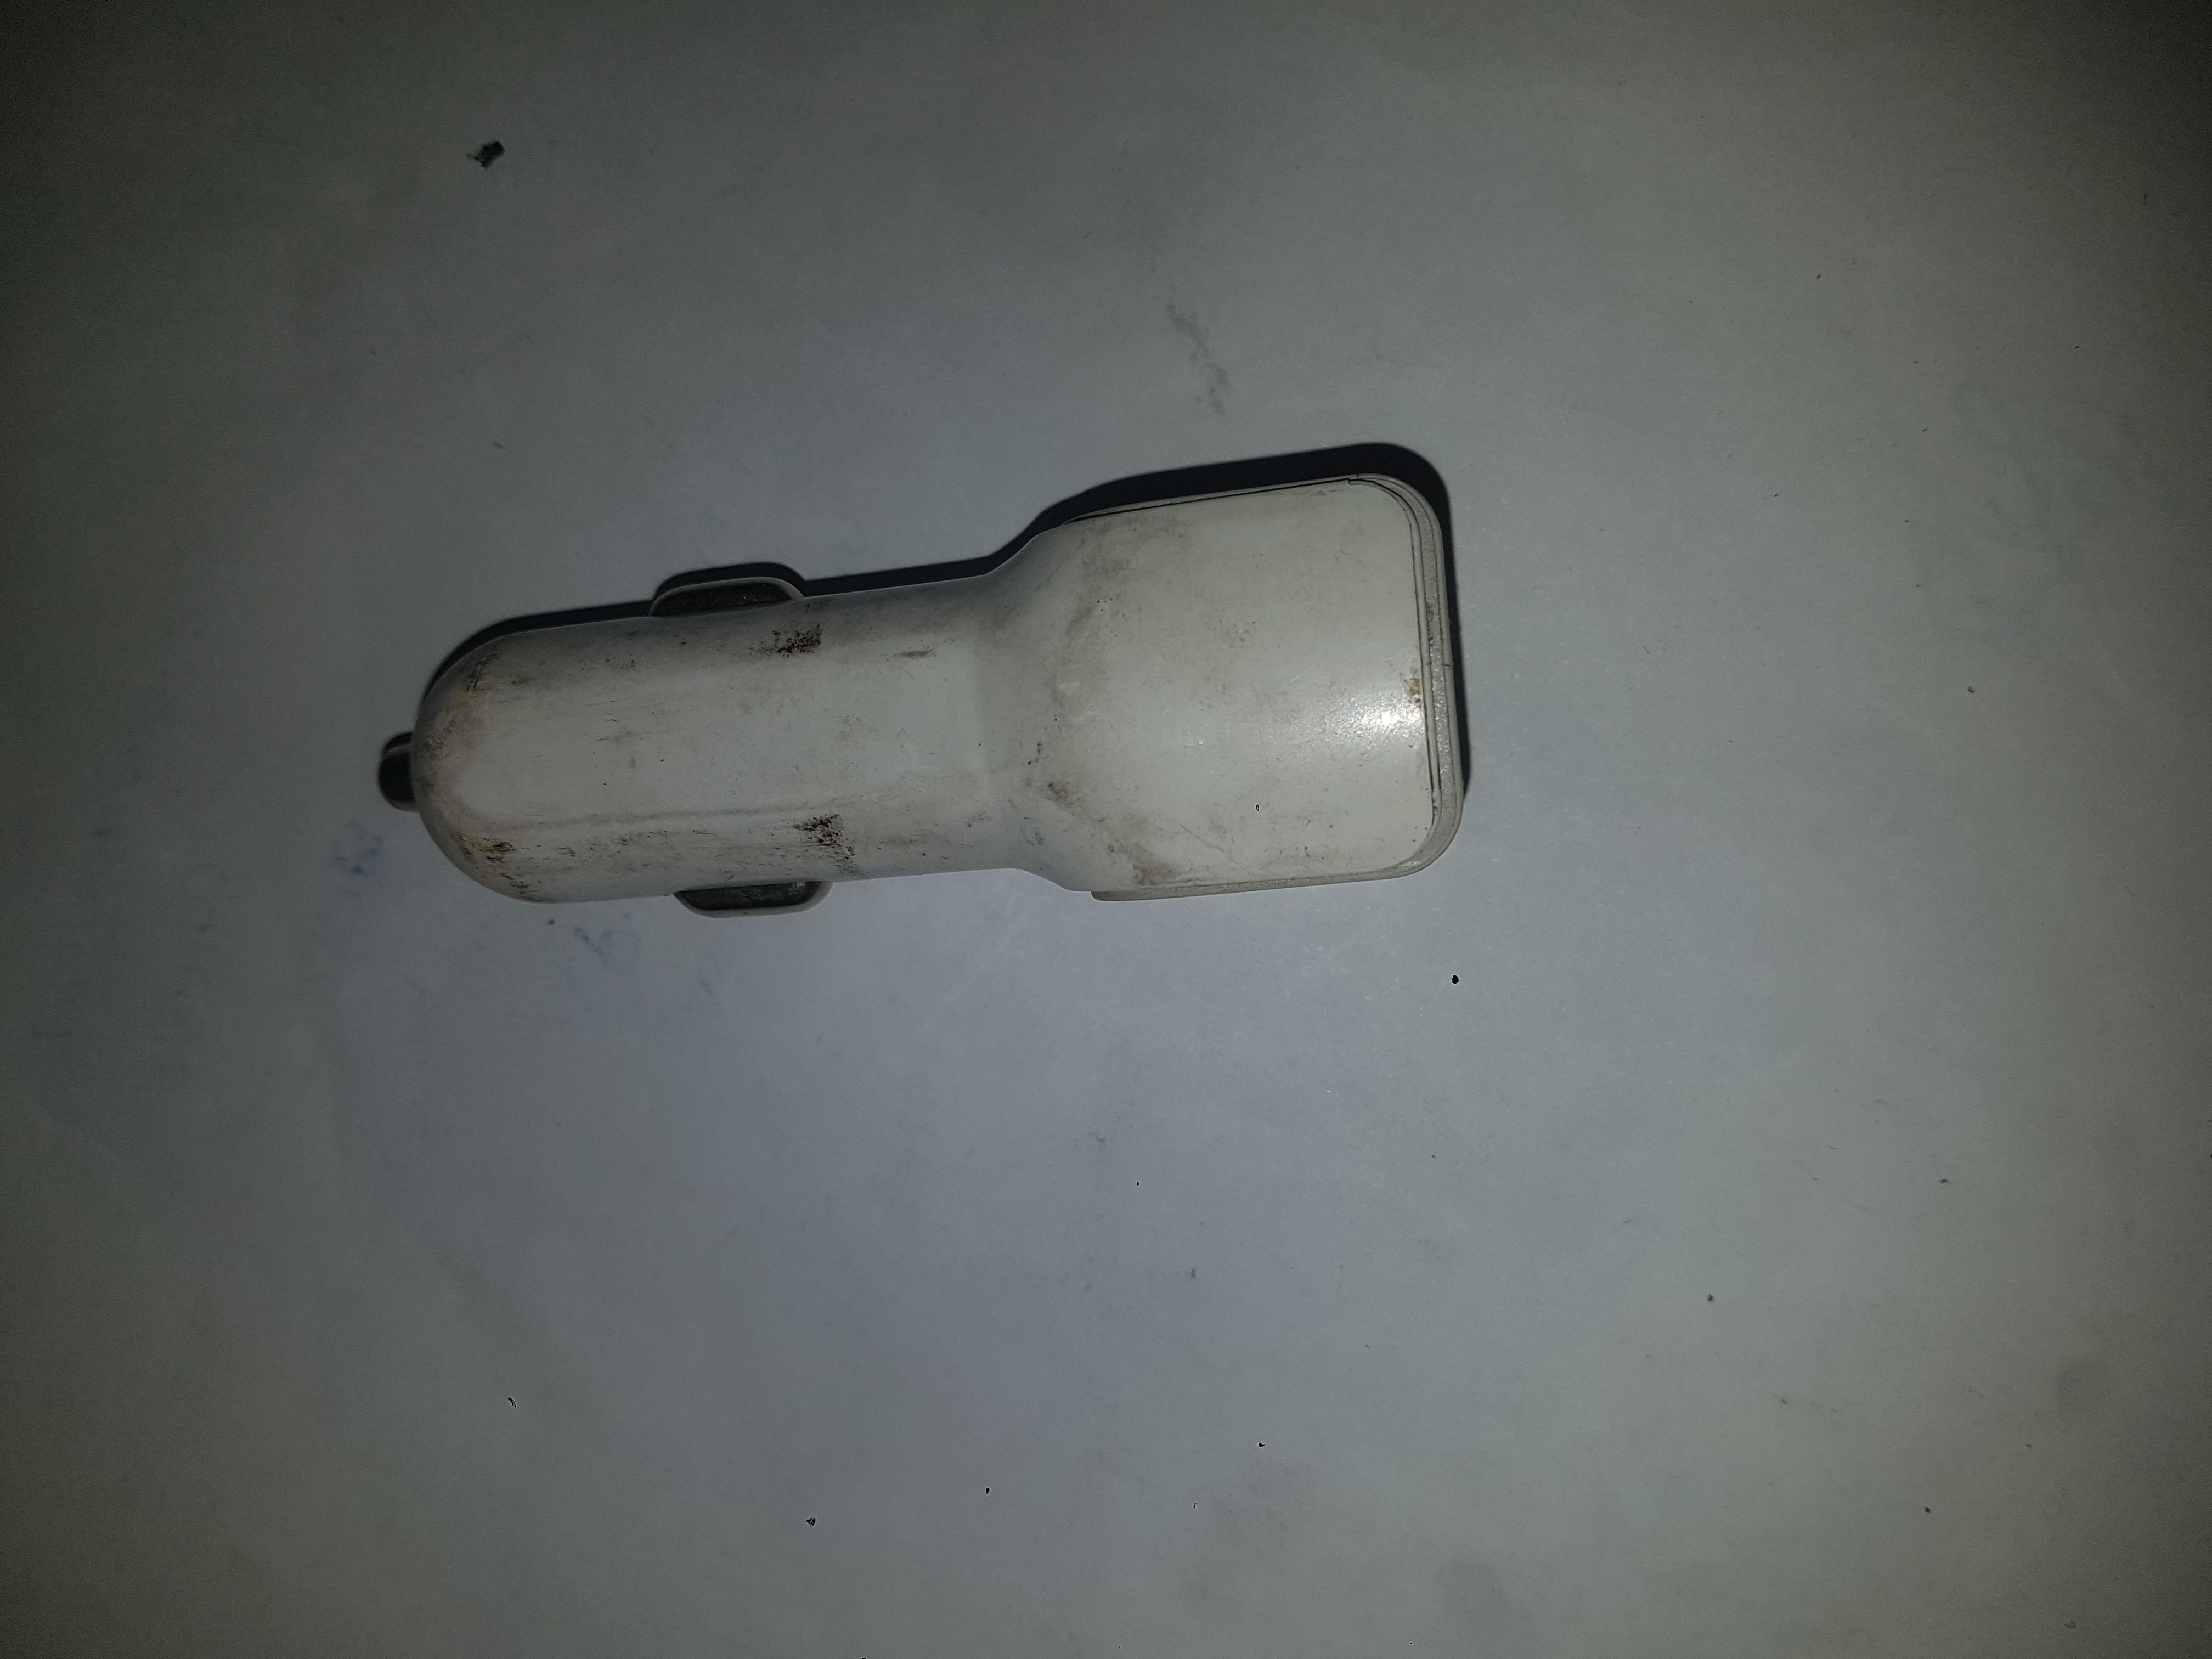electronic: (732, 725, 1851, 1218)
